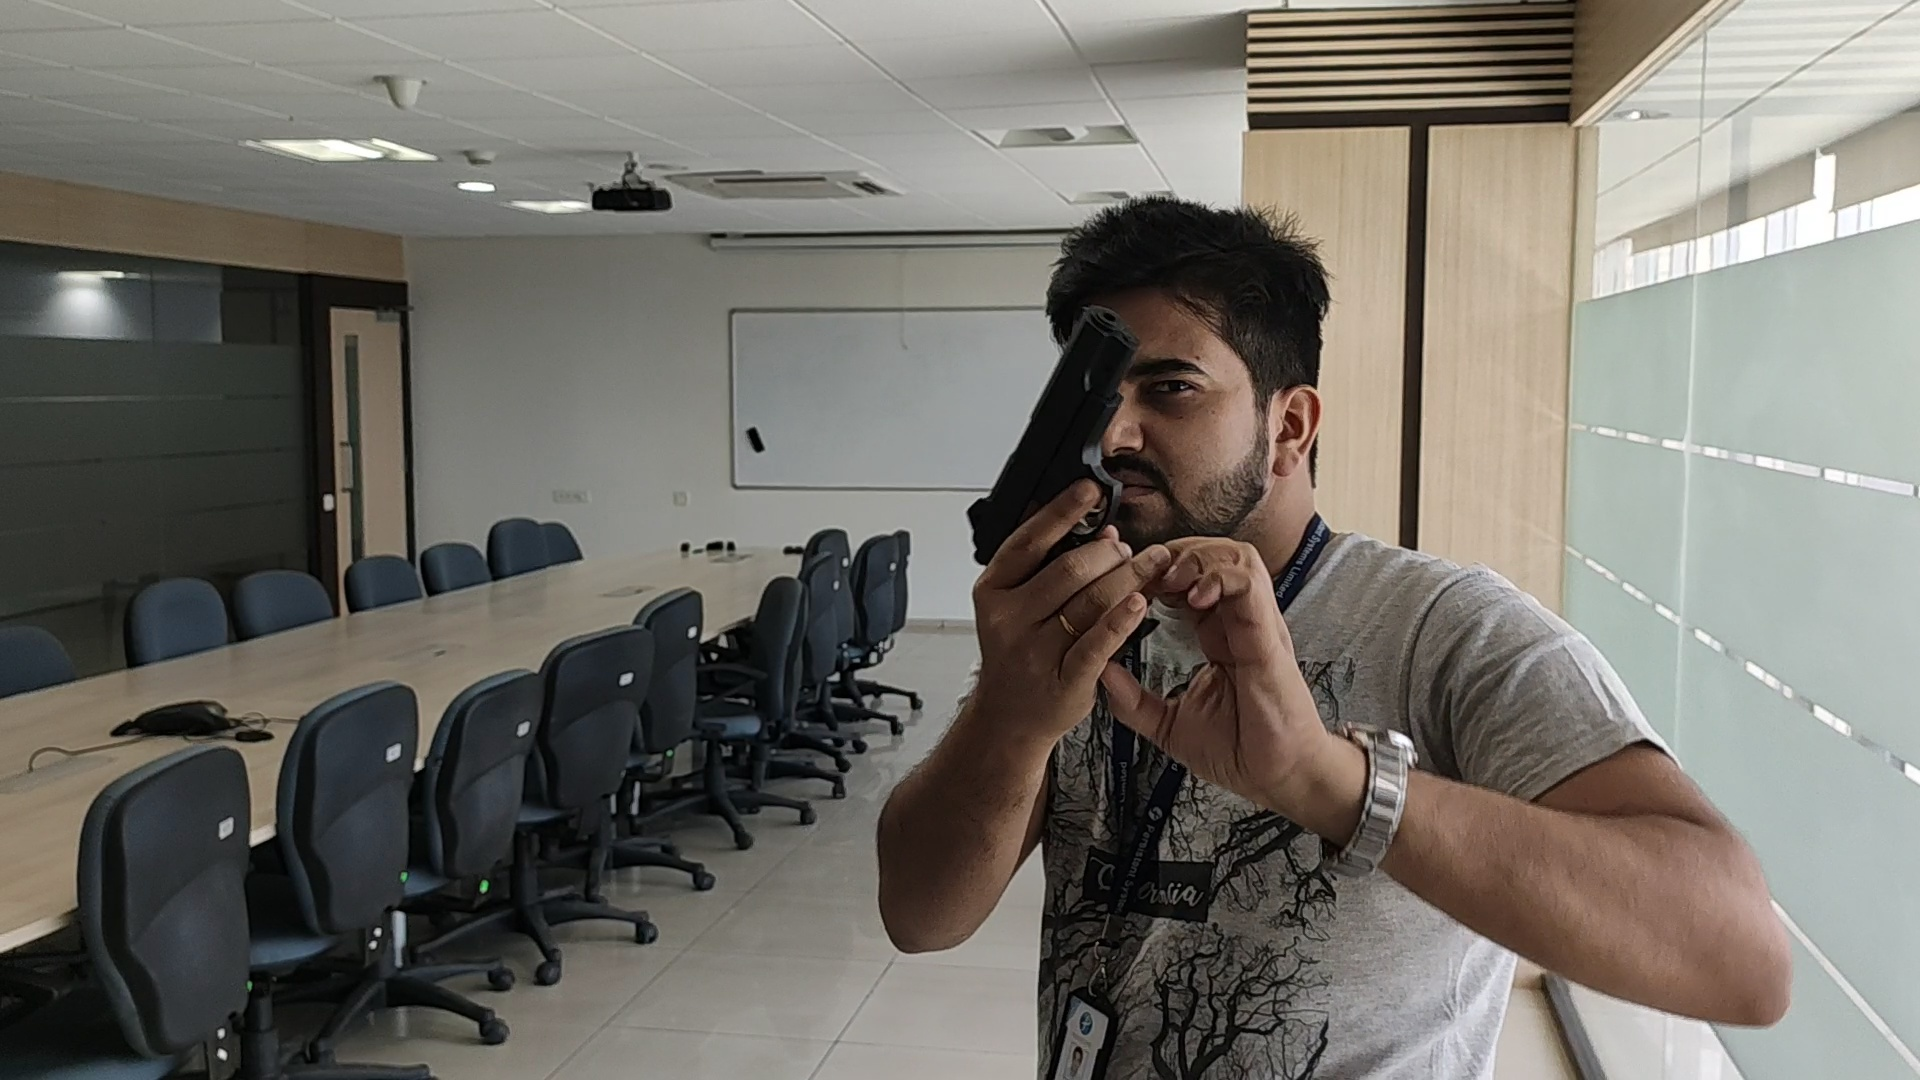gun: (967, 305, 1124, 533)
